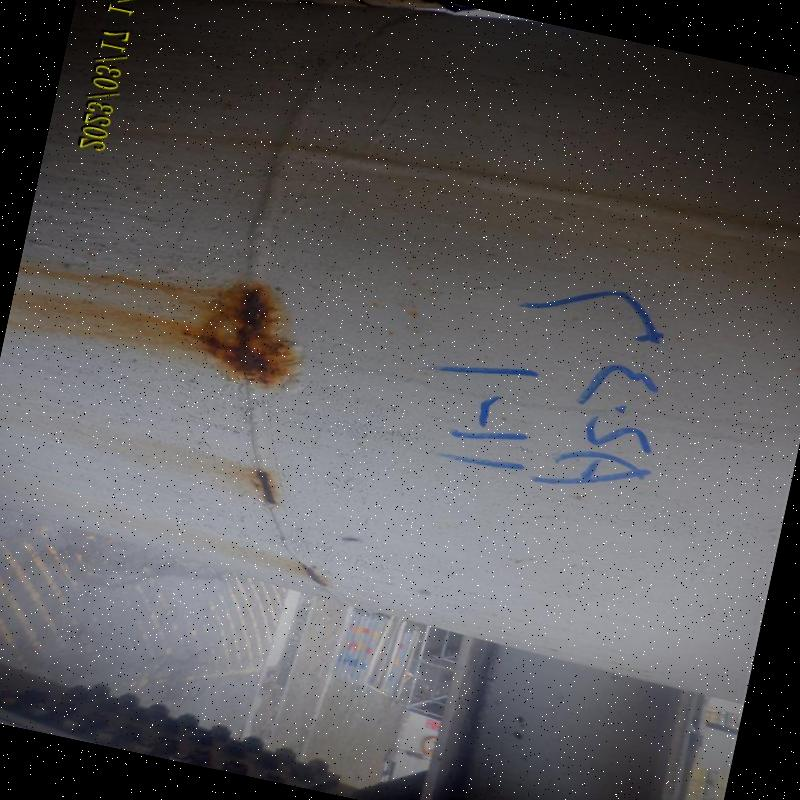corrosion: (204, 311, 294, 374)
